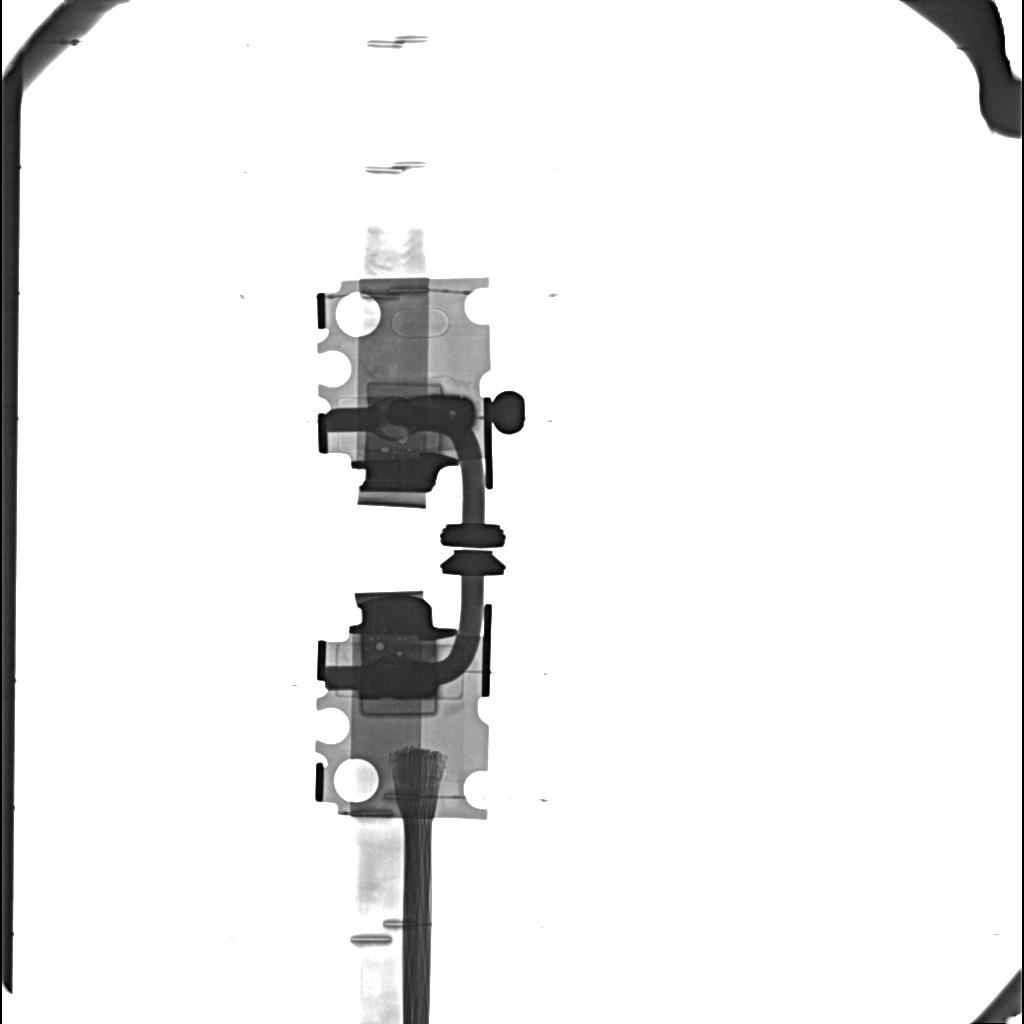PX: (360, 698, 438, 717), (367, 383, 443, 400)
QP: (399, 435, 409, 444), (376, 641, 384, 651)
SX: (358, 662, 439, 700), (386, 395, 473, 430)
